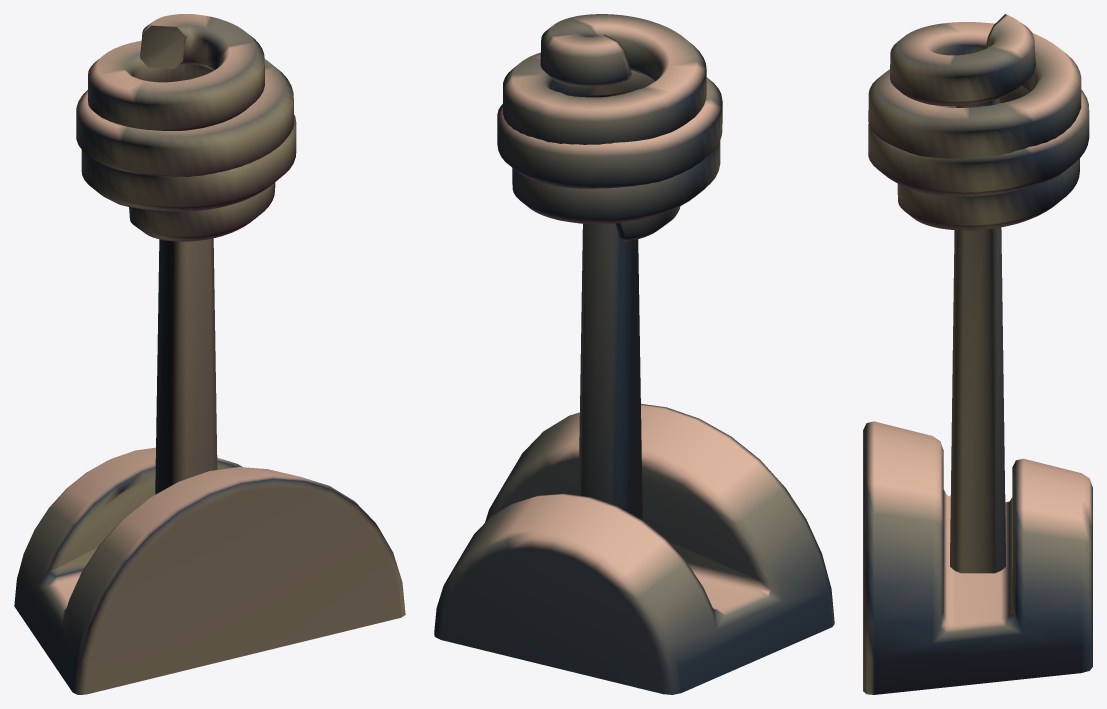
Rendered from Lever_01.fbx.
3 renders of one model, left to right at view 1: azimuth 30°, elevation 25°; view 2: azimuth 150°, elevation 25°; view 3: azimuth 270°, elevation 25°, orthographic. The views are drawn at different scales.
Visible parts, largest first — view 1: Lever; view 2: Lever; view 3: Lever.
Boxes of the visible parts, bbox=[...] form: Lever: bbox=[14, 14, 405, 694]; Lever: bbox=[434, 14, 834, 694]; Lever: bbox=[863, 14, 1092, 694].
Size of the model in its own units: 67.03 by 113 by 40.
